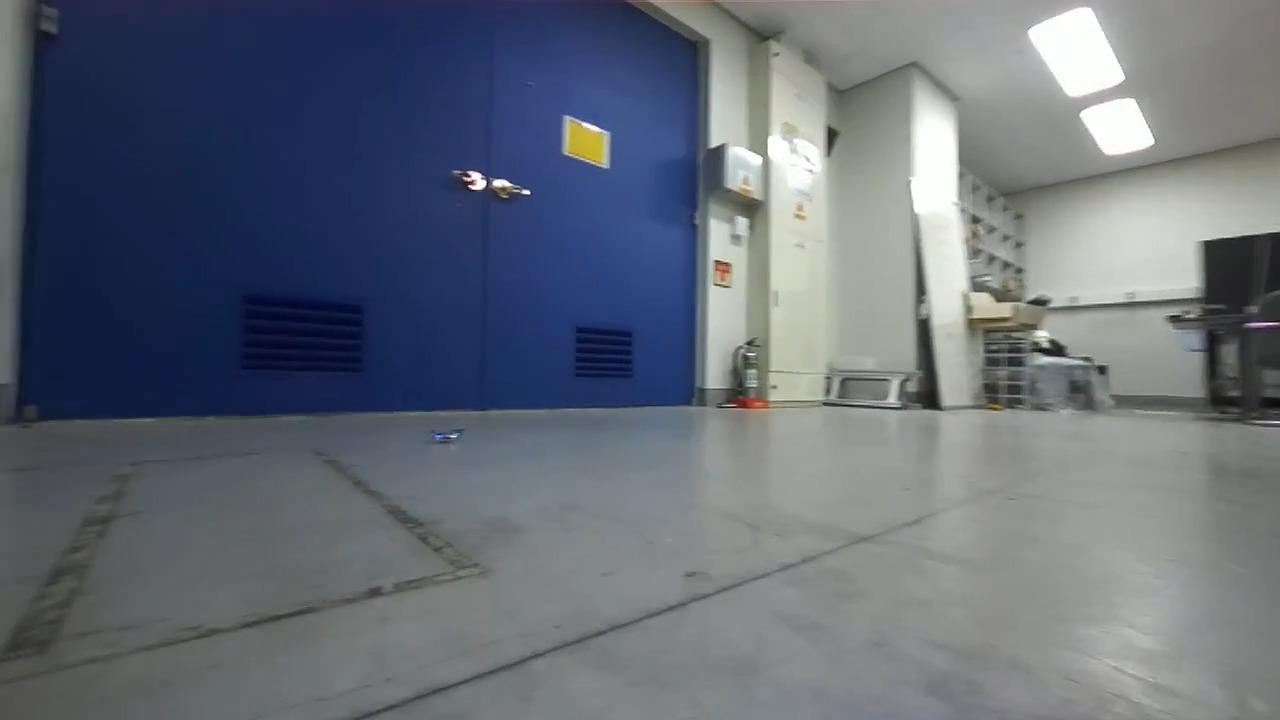crazyflie: (420, 420, 471, 450)
